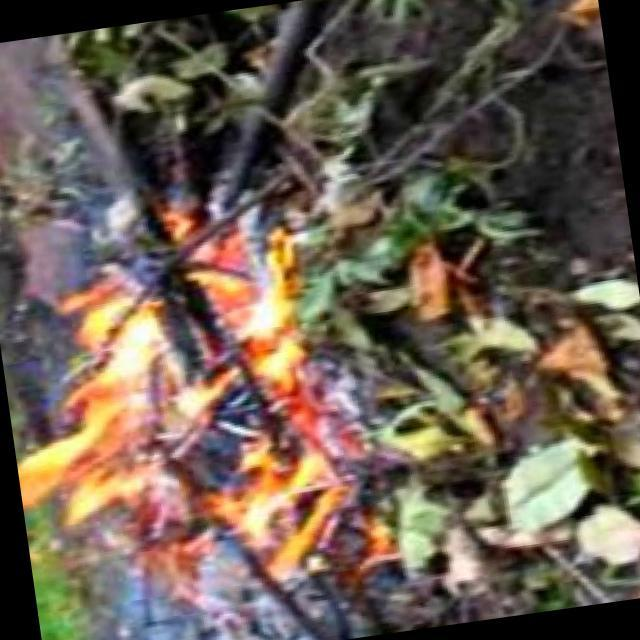Fire: (1, 225, 366, 598)
